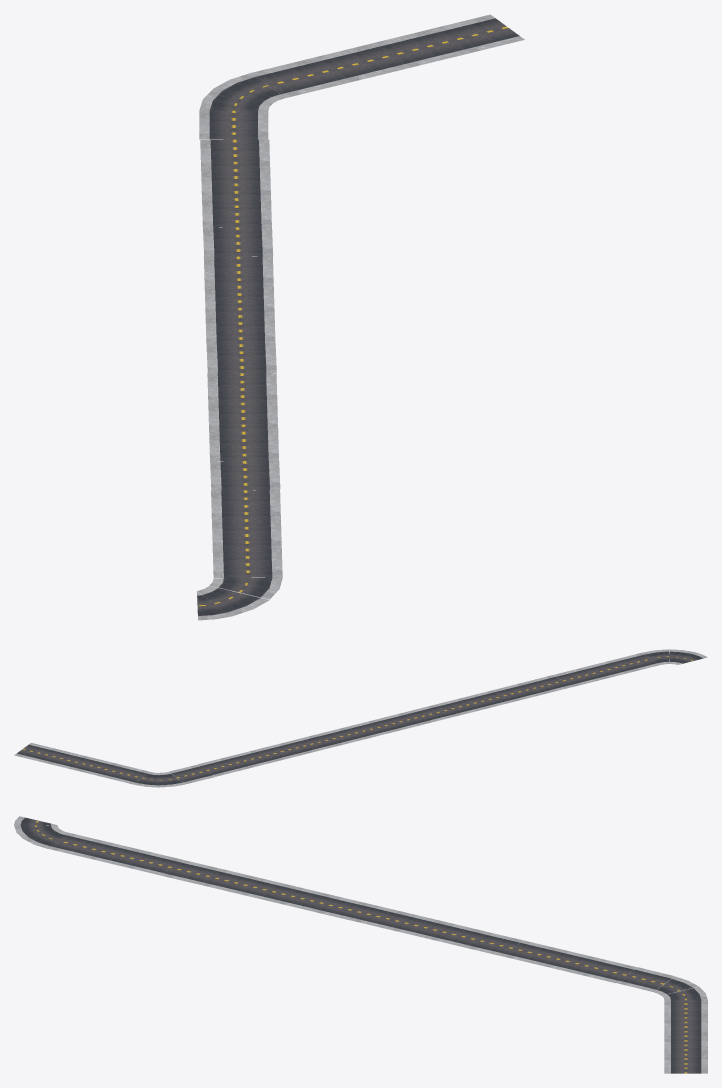
Rendered from Racer Track.fbx.
3 views of the same model, one above another, from view 1: azimuth 30°, elevation 25°; view 2: azimuth 150°, elevation 25°; view 3: azimuth 270°, elevation 25° (orthographic). The views are drawn at different scales.
Parts seen in each view (by area): view 1: tracK_road5, tracK_road8, tracK_road15, tracK_road18, tracK_road14, tracK_road16, tracK_road11, tracK_road20, tracK_road12, tracK_road19, tracK_road3, tracK_road2 (+12 smaller); view 2: tracK_road8, tracK_road18, tracK_road12, tracK_road13, tracK_road19, tracK_road20, tracK_road11, tracK_road14, tracK_road1, tracK_road2, tracK_road4, tracK_road5 (+12 smaller); view 3: tracK_road10, tracK_road18, tracK_road5, tracK_road7, tracK_road12, tracK_road19, tracK_road1, tracK_road2, tracK_road3, tracK_road4, tracK_road6, tracK_road9 (+12 smaller).
Boxes of the visible parts, x1=… form: tracK_road5: x1=199, y1=110, x2=268, y2=139; tracK_road8: x1=202, y1=198, x2=271, y2=227; tracK_road15: x1=211, y1=490, x2=280, y2=519; tracK_road18: x1=208, y1=402, x2=278, y2=431; tracK_road14: x1=212, y1=548, x2=282, y2=577; tracK_road16: x1=212, y1=519, x2=281, y2=548; tracK_road11: x1=203, y1=256, x2=273, y2=285; tracK_road20: x1=207, y1=373, x2=277, y2=402; tracK_road12: x1=203, y1=227, x2=273, y2=256; tracK_road19: x1=206, y1=344, x2=276, y2=373; tracK_road3: x1=311, y1=43, x2=404, y2=83; tracK_road2: x1=371, y1=29, x2=464, y2=68; tracK_road8: x1=257, y1=742, x2=304, y2=761; tracK_road18: x1=465, y1=689, x2=511, y2=709; tracK_road12: x1=287, y1=734, x2=333, y2=754; tracK_road13: x1=495, y1=682, x2=541, y2=701; tracK_road19: x1=406, y1=704, x2=452, y2=724; tracK_road20: x1=435, y1=697, x2=482, y2=716; tracK_road11: x1=317, y1=727, x2=363, y2=746; tracK_road14: x1=614, y1=652, x2=660, y2=672; tracK_road1: x1=14, y1=743, x2=60, y2=762; tracK_road2: x1=44, y1=750, x2=90, y2=769; tracK_road4: x1=104, y1=764, x2=150, y2=784; tracK_road5: x1=169, y1=764, x2=214, y2=784; tracK_road10: x1=388, y1=913, x2=446, y2=938; tracK_road18: x1=237, y1=877, x2=295, y2=902; tracK_road5: x1=616, y1=967, x2=674, y2=991; tracK_road7: x1=540, y1=949, x2=598, y2=974; tracK_road12: x1=464, y1=931, x2=522, y2=956; tracK_road19: x1=313, y1=895, x2=371, y2=920; tracK_road1: x1=664, y1=1055, x2=707, y2=1073; tracK_road2: x1=664, y1=1037, x2=707, y2=1055; tracK_road3: x1=664, y1=1018, x2=707, y2=1036; tracK_road4: x1=664, y1=1000, x2=707, y2=1018; tracK_road6: x1=578, y1=958, x2=636, y2=983; tracK_road9: x1=351, y1=904, x2=409, y2=929.
Size of the model in its own units: 140 by 0.0698 by 160.
2 materials, 2 textured.
